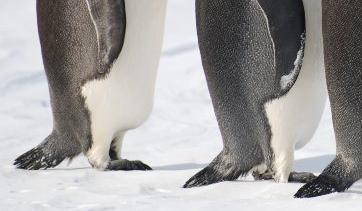Emperor Penguin: (189, 0, 349, 184), (15, 0, 177, 179), (314, 0, 362, 204)
